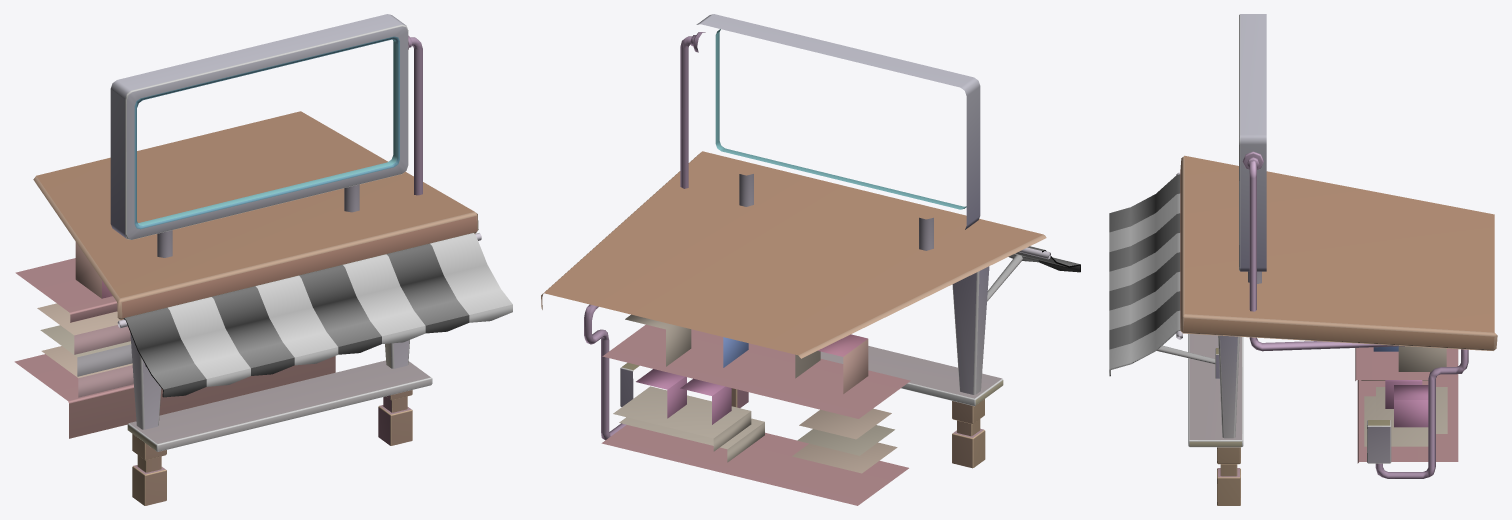
The model's file is CarsFunHut.glb.
3 views of the same model, side by side, from view 1: azimuth 30°, elevation 25°; view 2: azimuth 150°, elevation 25°; view 3: azimuth 270°, elevation 25° (orthographic). The views are drawn at different scales.
Visible parts, largest first — view 1: CarsFunHut; view 2: CarsFunHut; view 3: CarsFunHut.
Boxes of the visible parts, bbox=[...] form: CarsFunHut: bbox=[14, 14, 512, 505]; CarsFunHut: bbox=[541, 14, 1080, 505]; CarsFunHut: bbox=[1109, 14, 1497, 505].
Size of the model in its own units: 3.49 by 3.76 by 3.56.
